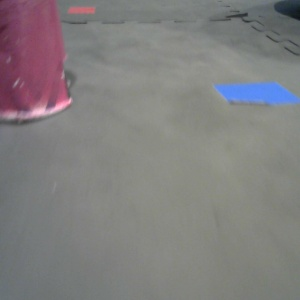Right: (135, 1, 205, 64)
